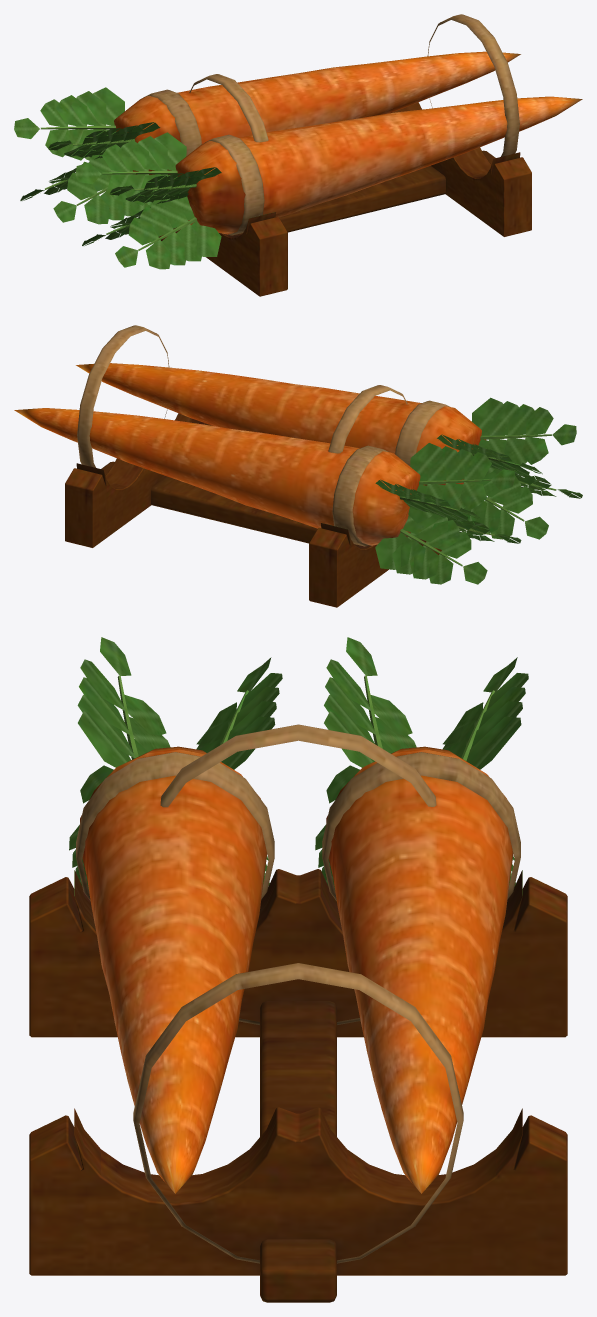
The model's file is ammo_rocket.glb.
3 views of the same model, one above another, from view 1: azimuth 30°, elevation 25°; view 2: azimuth 150°, elevation 25°; view 3: azimuth 270°, elevation 25° (orthographic). The views are drawn at different scales.
Parts seen in each view (by area): view 1: ammo_rocket; view 2: ammo_rocket; view 3: ammo_rocket.
Part boxes in pixels (box(x1,y1,x2,y2)): ammo_rocket: box(14, 14, 582, 296); ammo_rocket: box(14, 325, 582, 607); ammo_rocket: box(29, 637, 567, 1302).
Bounding box in the file's own units: 0.4376 × 0.1364 × 0.21.
1 material, 1 textured.
